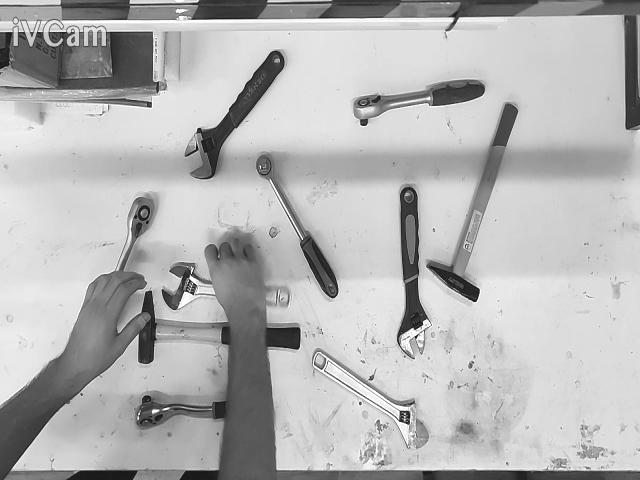Adjustable spanner: (185, 50, 285, 178), (312, 350, 429, 448), (161, 263, 291, 310), (398, 185, 431, 359)
Hammer: (428, 103, 518, 302), (138, 291, 300, 364)
Hand: (0, 272, 150, 478), (205, 238, 276, 478)
Ratchet: (256, 155, 339, 298), (354, 80, 485, 126), (135, 395, 227, 430), (115, 197, 155, 270)
